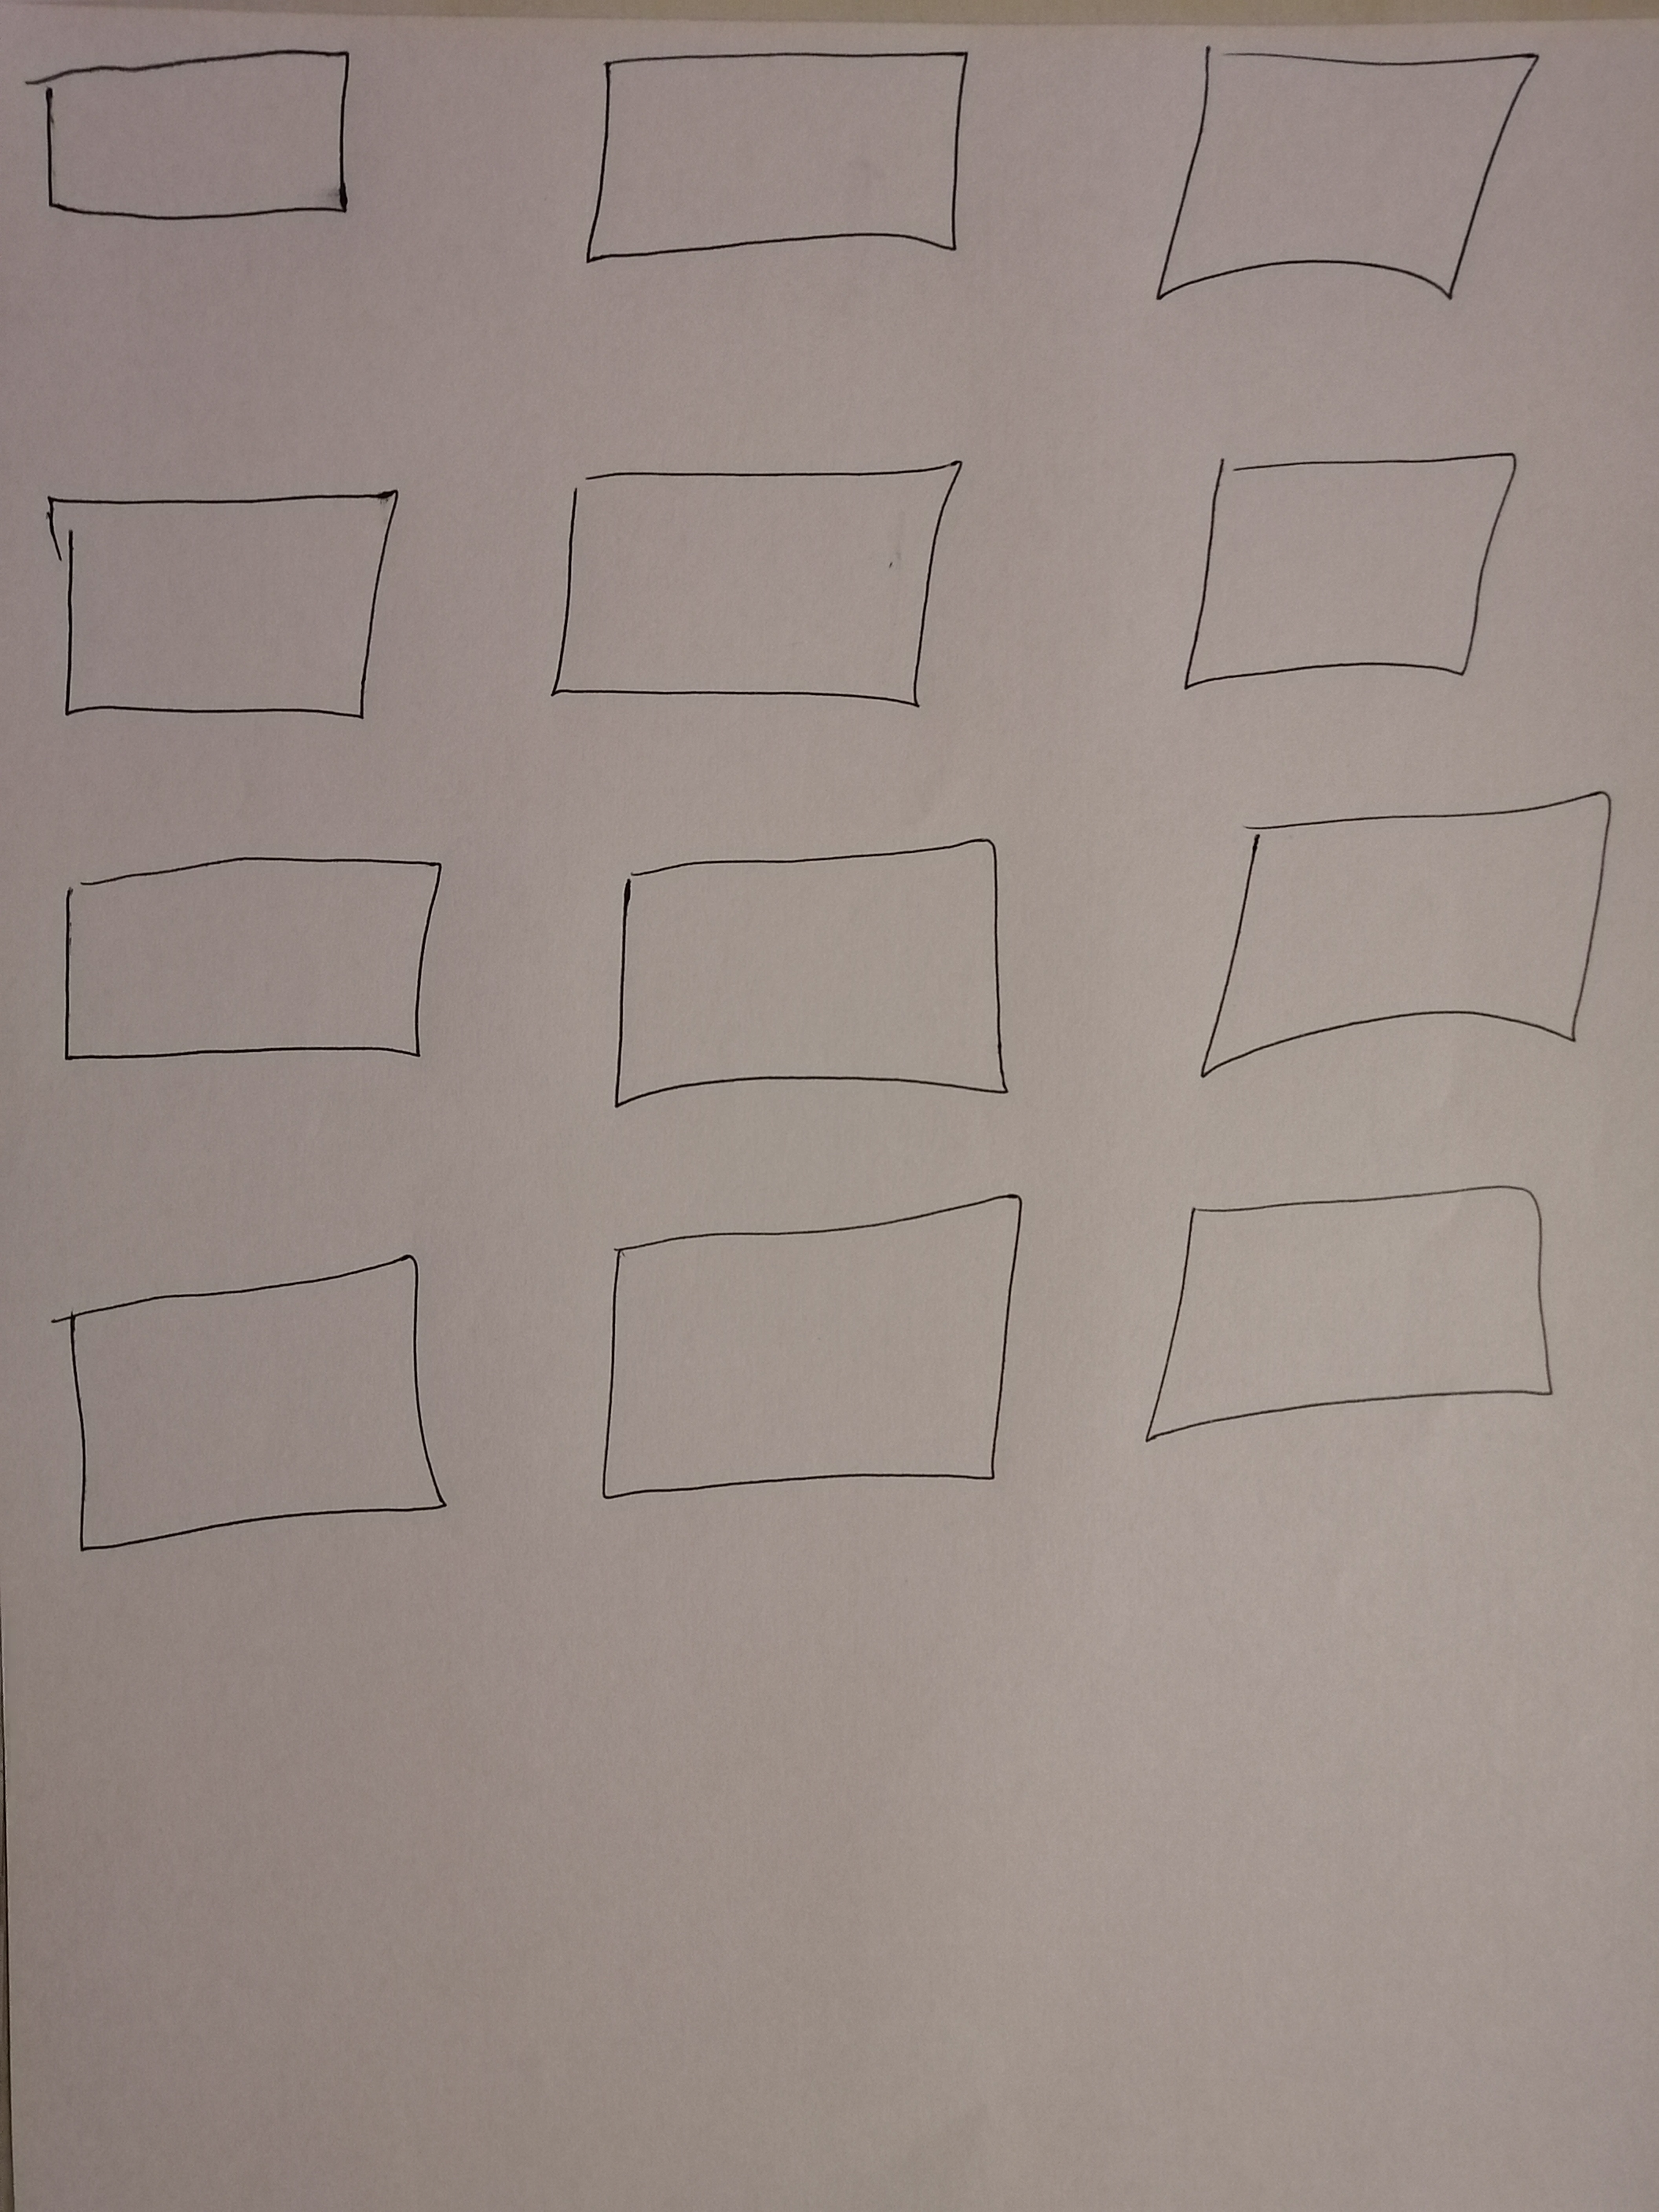process: (579, 1163, 1046, 1552), (575, 806, 1056, 1137), (1124, 1160, 1600, 1491), (38, 1238, 498, 1573), (1195, 766, 1631, 1113), (1138, 28, 1577, 348), (542, 430, 981, 742), (24, 449, 430, 773), (559, 28, 1002, 303), (1155, 420, 1539, 735), (35, 827, 467, 1092), (17, 38, 378, 253)
